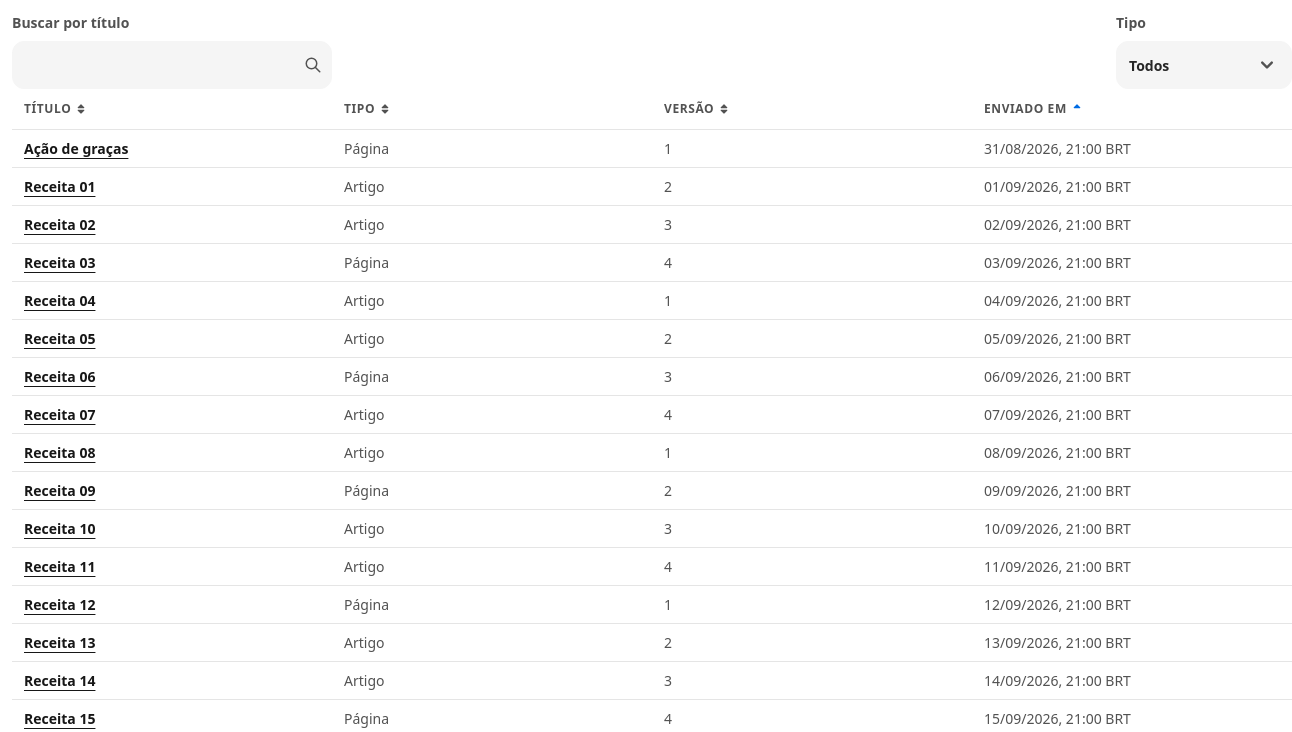
it: busca, filtro, ordem e paginação (#365) › título, tipo e versão ordenam; o tipo pelo rótulo exibido
Step 1. Click the button "Título" → click(56, 109), box top-left (24, 97), bottom-right (87, 121)
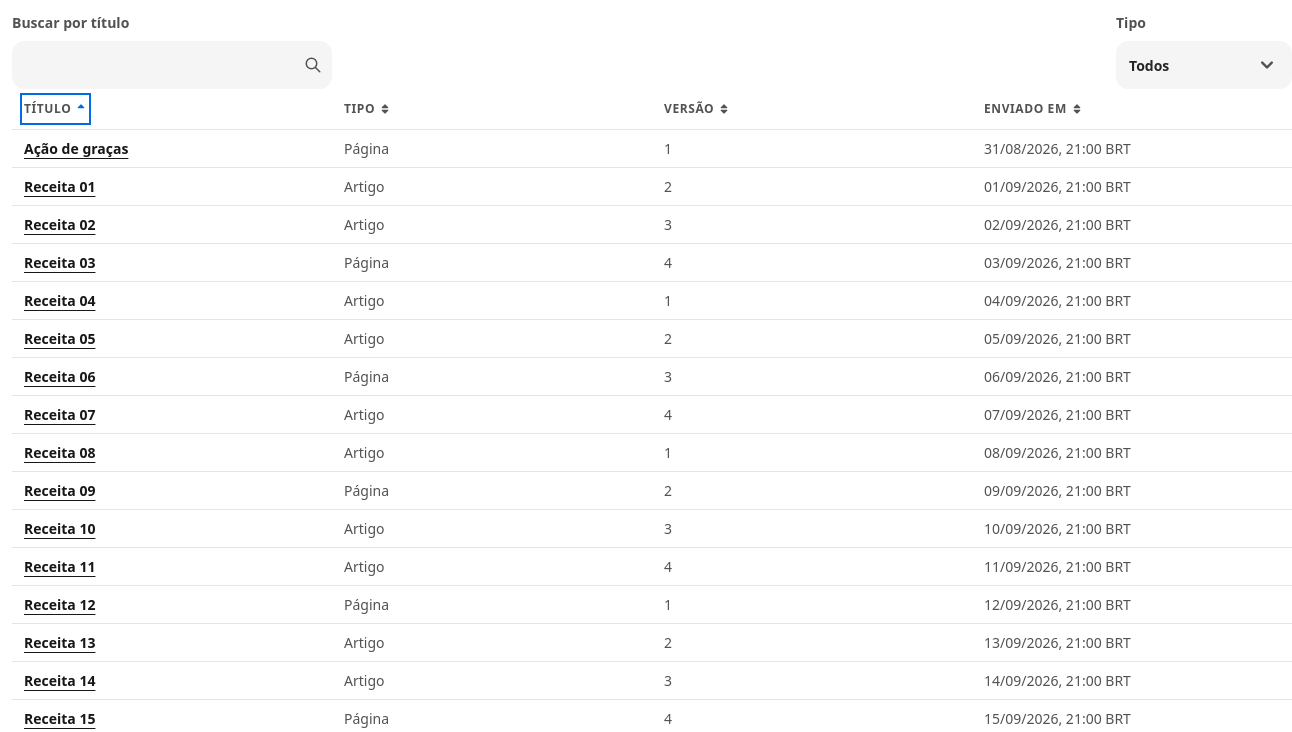
Expected: the text "Ação de graças" is shown, top-left (24, 139), bottom-right (128, 158)
Now the column heading "Título" has attribute aria-sort="ascending", box top-left (12, 89), bottom-right (332, 130)
Step 2. Click the button "Tipo" → click(368, 109), box top-left (344, 97), bottom-right (391, 121)
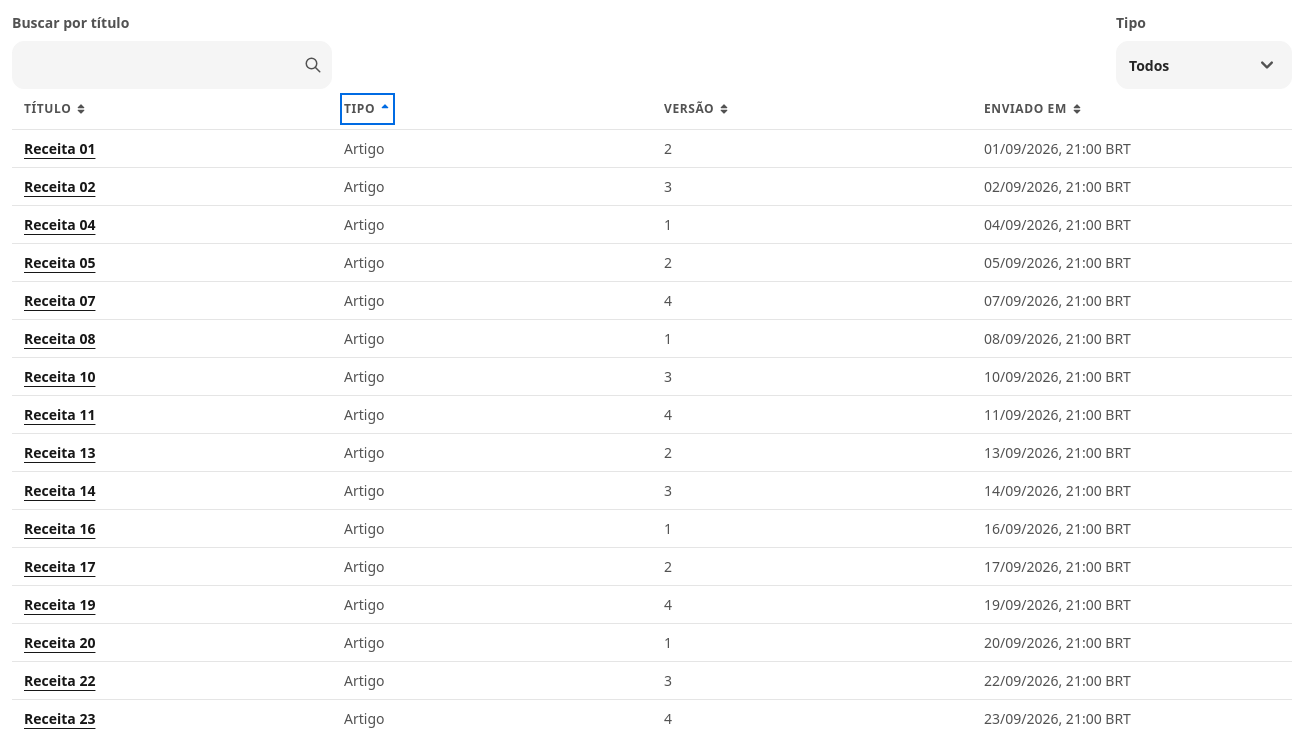
Now the cell "Artigo" in the row of "Receita 01" is shown, box top-left (344, 139), bottom-right (384, 158)
// Número começa pelo maior (o padrão do TanStack para colunas numéricas).
Step 3. Click the button "Versão" → click(697, 109), box top-left (664, 97), bottom-right (730, 121)
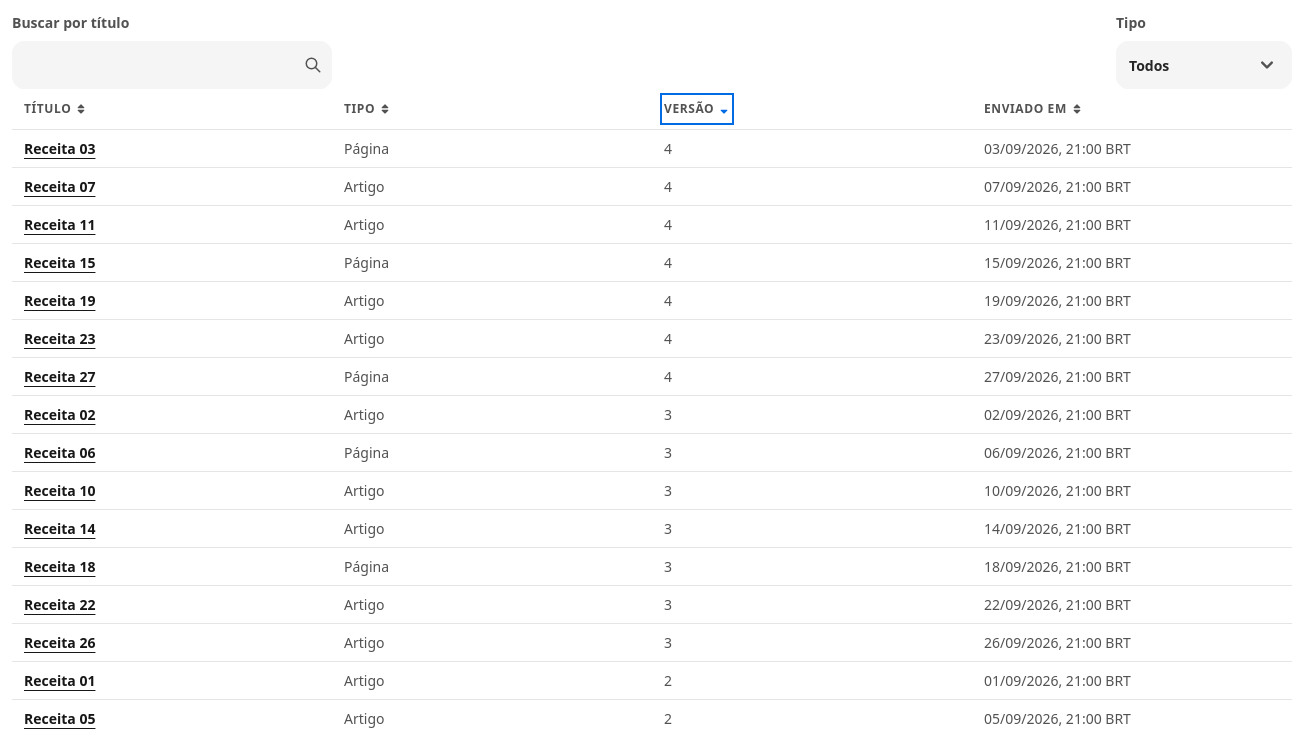
Now the cell "4" in the row of "Receita 03" is shown, box top-left (664, 139), bottom-right (672, 158)
